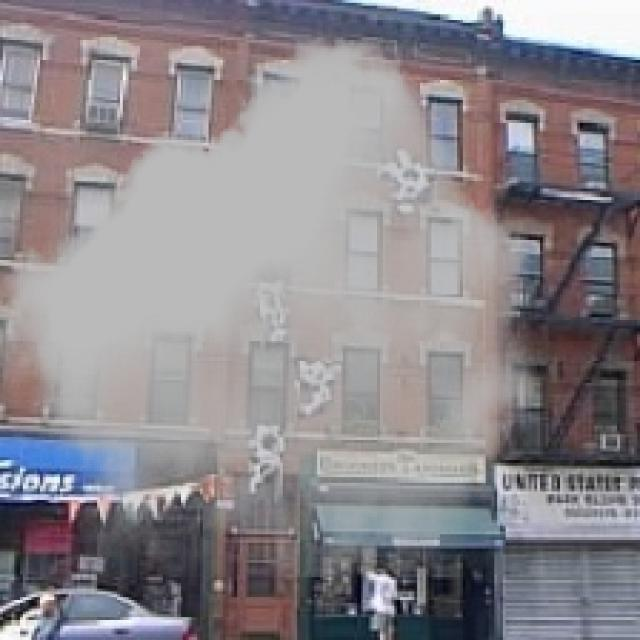Smoke: (0, 40, 537, 577)
